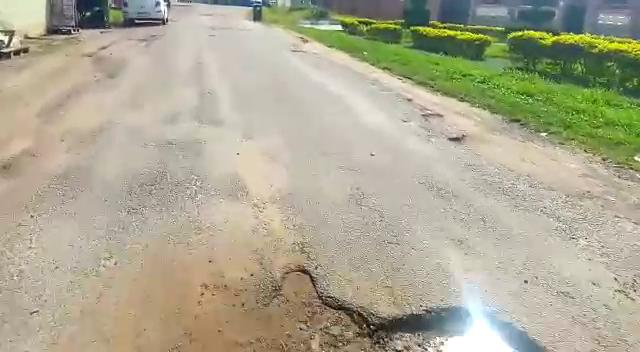pothole: (170, 267, 548, 352)
